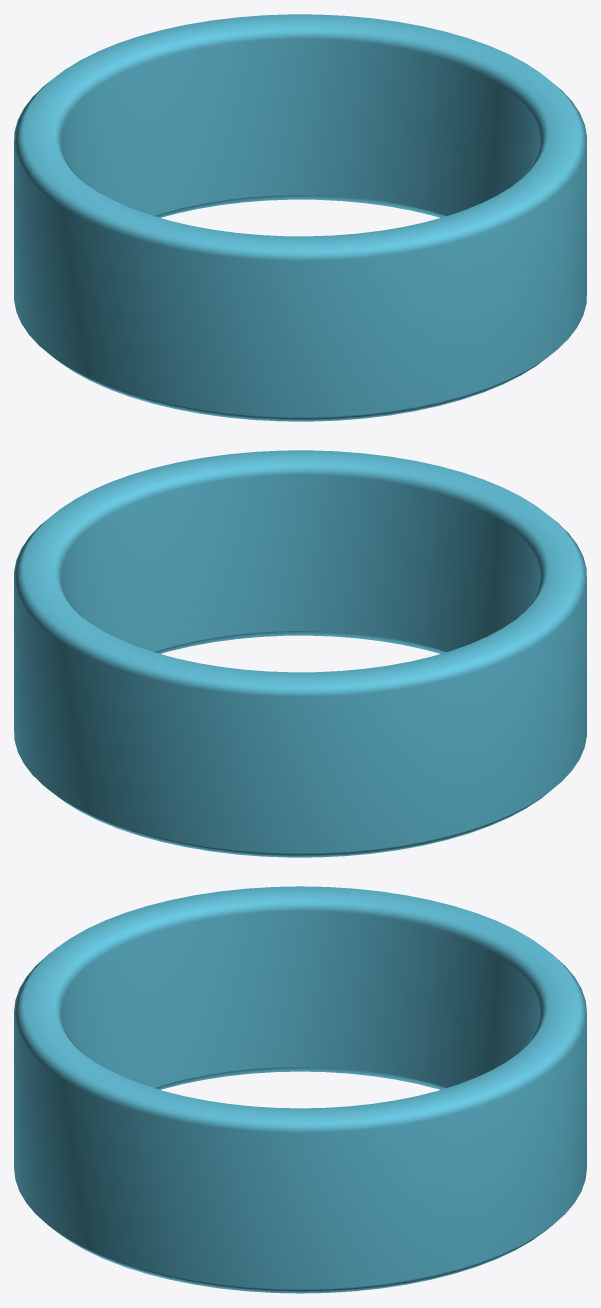
3 renders of one model, top to bottom at view 1: azimuth 30°, elevation 25°; view 2: azimuth 150°, elevation 25°; view 3: azimuth 270°, elevation 25°, orthographic.
Visible parts, largest first — view 1: seal_body; view 2: seal_body; view 3: seal_body.
Part boxes in pixels (bbox=[...]): seal_body: bbox=[14, 14, 586, 421]; seal_body: bbox=[14, 450, 586, 857]; seal_body: bbox=[14, 886, 586, 1293].
Size of the model in its own units: 0.0381 by 0.0127 by 0.0381.
